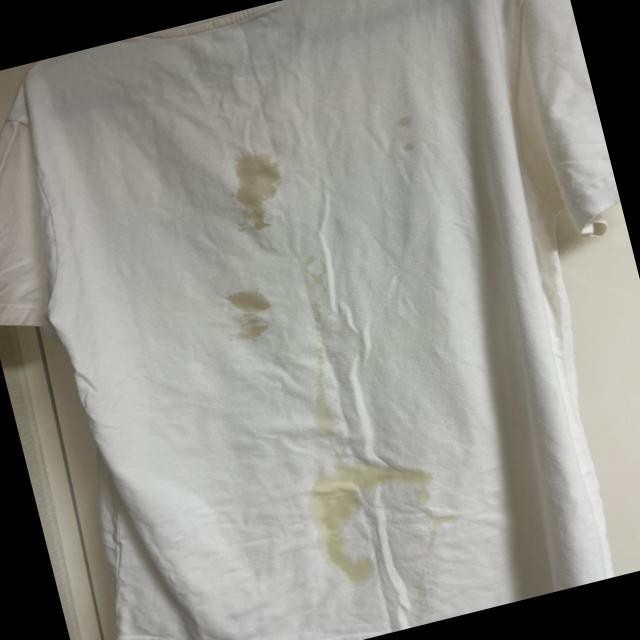stain: (296, 437, 460, 588), (219, 142, 308, 238), (298, 356, 352, 439), (229, 285, 277, 350), (287, 250, 339, 304), (383, 113, 422, 157), (303, 300, 337, 337)
